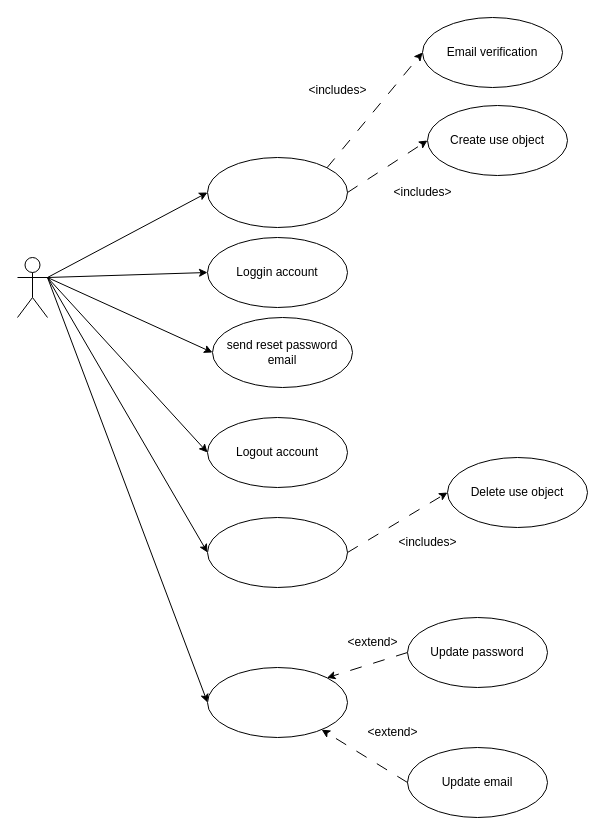
The diagram is 605 pixels wide and 835 high, and some of its shapes have lost their labels. The centre of each missing label's shape, as x and y in pixels:
"Create account" belongs at (x=277, y=192).
"Delete account" belongs at (x=277, y=552).
"Update data" belongs at (x=277, y=702).
"User" belongs at (x=32, y=287).
